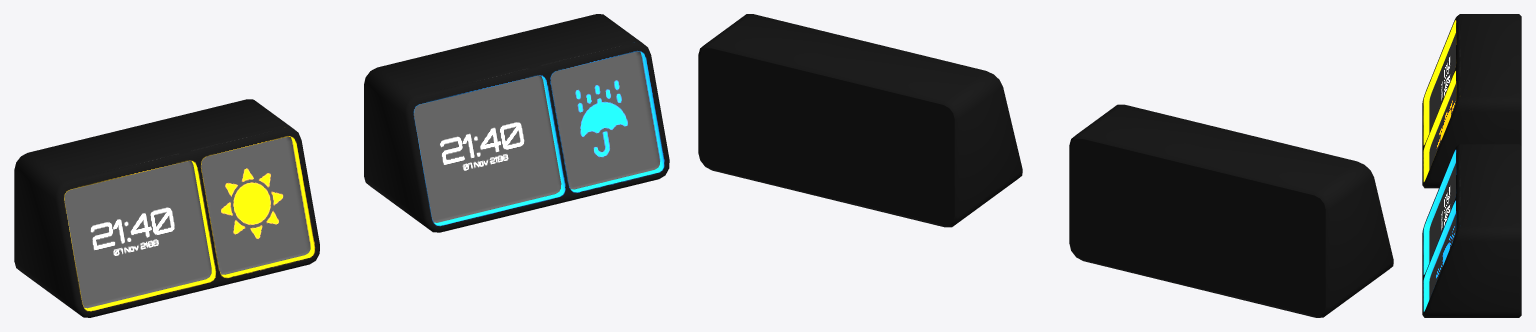
The model's file is digital_clock_low_poly.glb.
3 renders of one model, left to right at view 1: azimuth 30°, elevation 25°; view 2: azimuth 150°, elevation 25°; view 3: azimuth 270°, elevation 25°, orthographic. The views are drawn at different scales.
Parts seen in each view (by area): view 1: interior_small_prop_digital_clock_01.1_interior_small_prop_d, interior_small_prop_digital_clock_01.2_interior_small_prop_d; view 2: interior_small_prop_digital_clock_01.1_interior_small_prop_d, interior_small_prop_digital_clock_01.2_interior_small_prop_d; view 3: interior_small_prop_digital_clock_01.2_interior_small_prop_d, interior_small_prop_digital_clock_01.1_interior_small_prop_d.
Part boxes in pixels (x1=…): interior_small_prop_digital_clock_01.1_interior_small_prop_d: x1=14, y1=99, x2=319, y2=317; interior_small_prop_digital_clock_01.2_interior_small_prop_d: x1=364, y1=14, x2=669, y2=232; interior_small_prop_digital_clock_01.1_interior_small_prop_d: x1=1069, y1=104, x2=1393, y2=317; interior_small_prop_digital_clock_01.2_interior_small_prop_d: x1=698, y1=14, x2=1022, y2=227; interior_small_prop_digital_clock_01.2_interior_small_prop_d: x1=1422, y1=143, x2=1521, y2=317; interior_small_prop_digital_clock_01.1_interior_small_prop_d: x1=1422, y1=14, x2=1521, y2=188.
Size of the model in its own units: 0.5706 by 0.1092 by 0.1083.
Materials: 2 (2 with a texture image).
